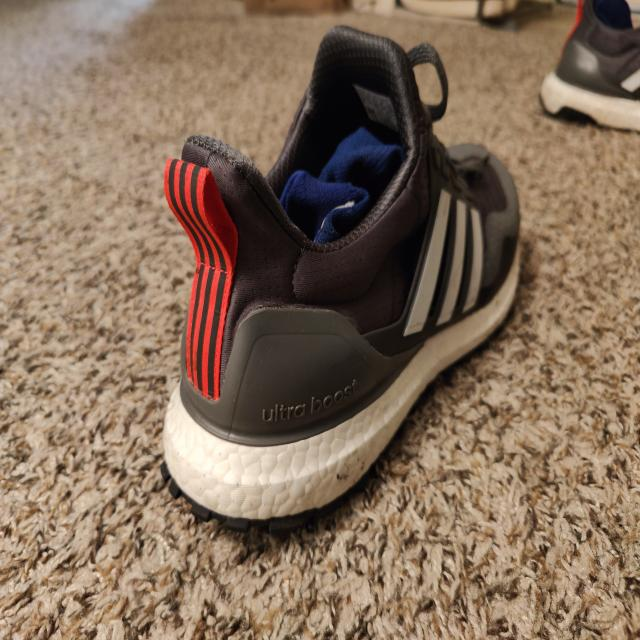black shoes: (162, 30, 522, 520)
